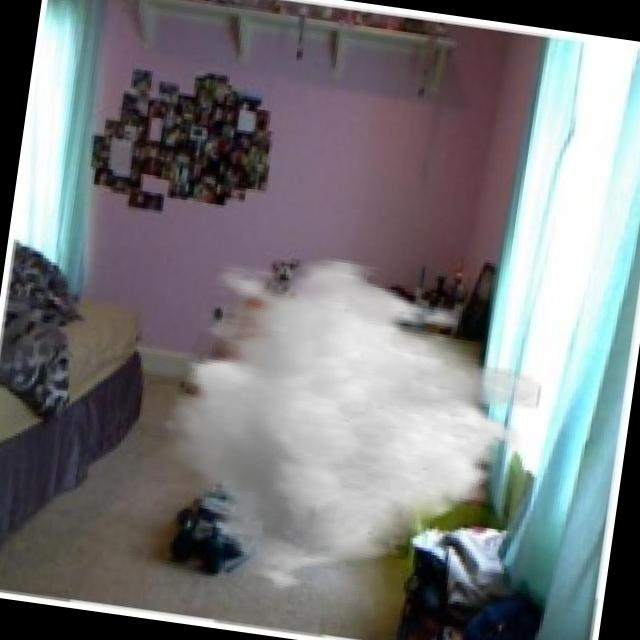Smoke: (142, 238, 556, 629)
